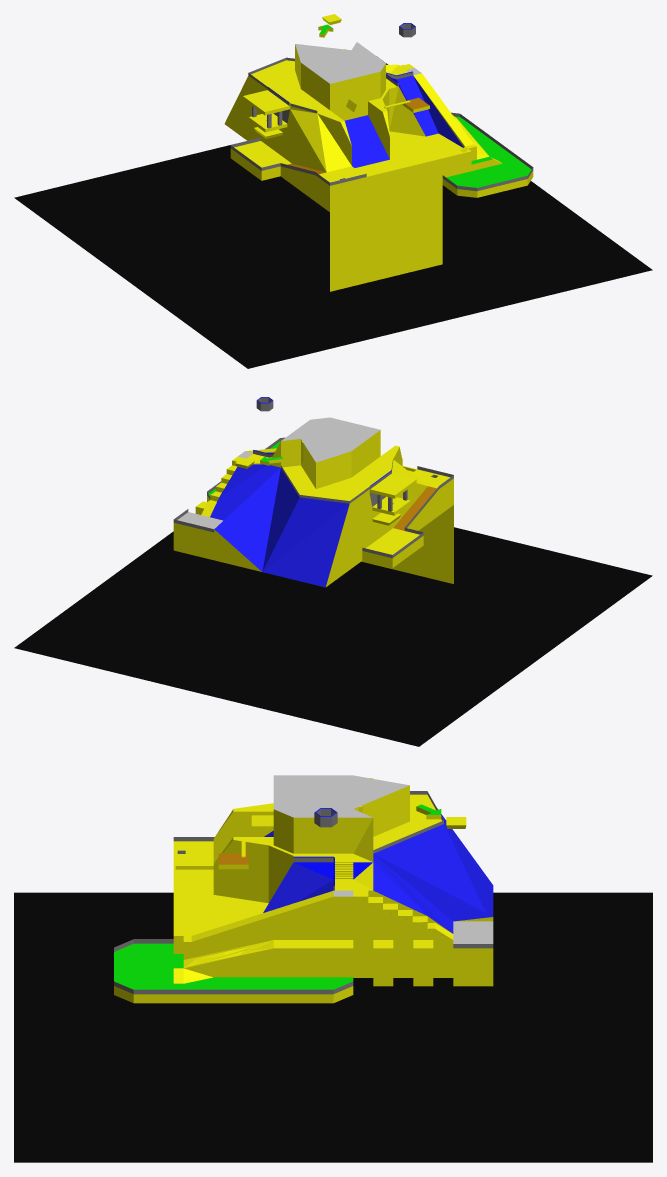
The picture shows the model from 3 angles, top to bottom: view 1: azimuth 30°, elevation 25°; view 2: azimuth 150°, elevation 25°; view 3: azimuth 270°, elevation 25°; orthographic projection. The views are drawn at different scales.
Visible parts, largest first — view 1: wf_segment7_102D8_deathfloor, wf_segment7_102D8_normal, wf_segment7_102D8_slippery, wf_segment7_102D8_wall, wf_segment7_102D8_65, wf_segment7_102D8_grass; view 2: wf_segment7_102D8_deathfloor, wf_segment7_102D8_normal, wf_segment7_102D8_slippery, wf_segment7_102D8_65, wf_segment7_102D8_wall; view 3: wf_segment7_102D8_deathfloor, wf_segment7_102D8_normal, wf_segment7_102D8_slippery, wf_segment7_102D8_grass, wf_segment7_102D8_65, wf_segment7_102D8_wall, wf_segment7_102D8_6E, wf_segment7_102D8_very_slippery.
Boxes of the visible parts, x1,y1,x2,y2 form: wf_segment7_102D8_deathfloor: [14, 145, 652, 368]; wf_segment7_102D8_normal: [224, 14, 533, 291]; wf_segment7_102D8_slippery: [267, 23, 463, 167]; wf_segment7_102D8_wall: [230, 23, 533, 191]; wf_segment7_102D8_65: [295, 42, 385, 83]; wf_segment7_102D8_grass: [319, 24, 531, 187]; wf_segment7_102D8_deathfloor: [14, 527, 652, 746]; wf_segment7_102D8_normal: [173, 430, 453, 586]; wf_segment7_102D8_slippery: [210, 397, 391, 587]; wf_segment7_102D8_65: [281, 417, 380, 462]; wf_segment7_102D8_wall: [173, 397, 453, 558]; wf_segment7_102D8_deathfloor: [14, 892, 652, 1162]; wf_segment7_102D8_normal: [114, 778, 493, 1003]; wf_segment7_102D8_slippery: [263, 808, 493, 933]; wf_segment7_102D8_grass: [114, 804, 441, 989]; wf_segment7_102D8_65: [273, 775, 408, 817]; wf_segment7_102D8_wall: [114, 791, 493, 994]; wf_segment7_102D8_6E: [333, 890, 493, 943]; wf_segment7_102D8_very_slippery: [293, 856, 372, 885].
Bounding box in the file's own units: 16 × 7.27 × 16.
